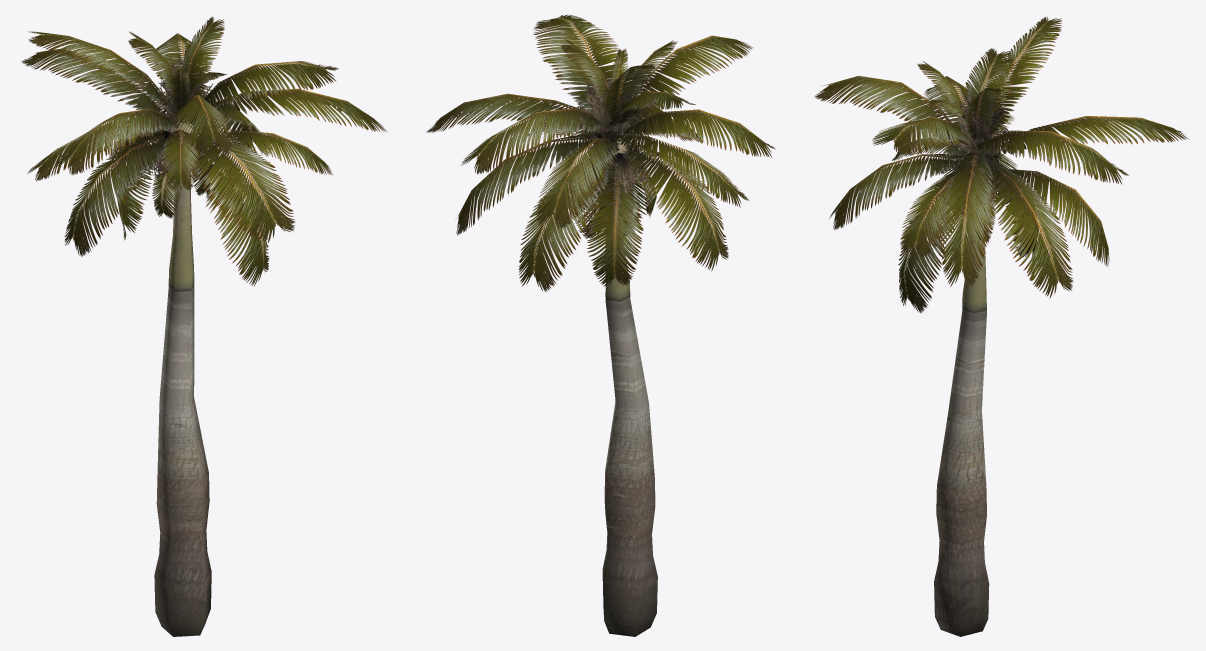
Rendered from Palm1_VARCol2.glb.
3 views of the same model, side by side, from view 1: azimuth 30°, elevation 25°; view 2: azimuth 150°, elevation 25°; view 3: azimuth 270°, elevation 25° (orthographic). The views are drawn at different scales.
Parts seen in each view (by area): view 1: Palm1_VARCol2; view 2: Palm1_VARCol2; view 3: Palm1_VARCol2.
Boxes of the visible parts, x1,y1,x2,y2 form: Palm1_VARCol2: (21,16,387,636); Palm1_VARCol2: (426,14,775,636); Palm1_VARCol2: (814,17,1188,636).
Size of the model in its own units: 3.49 by 5.75 by 3.54.
Materials: 1 (1 with a texture image).
